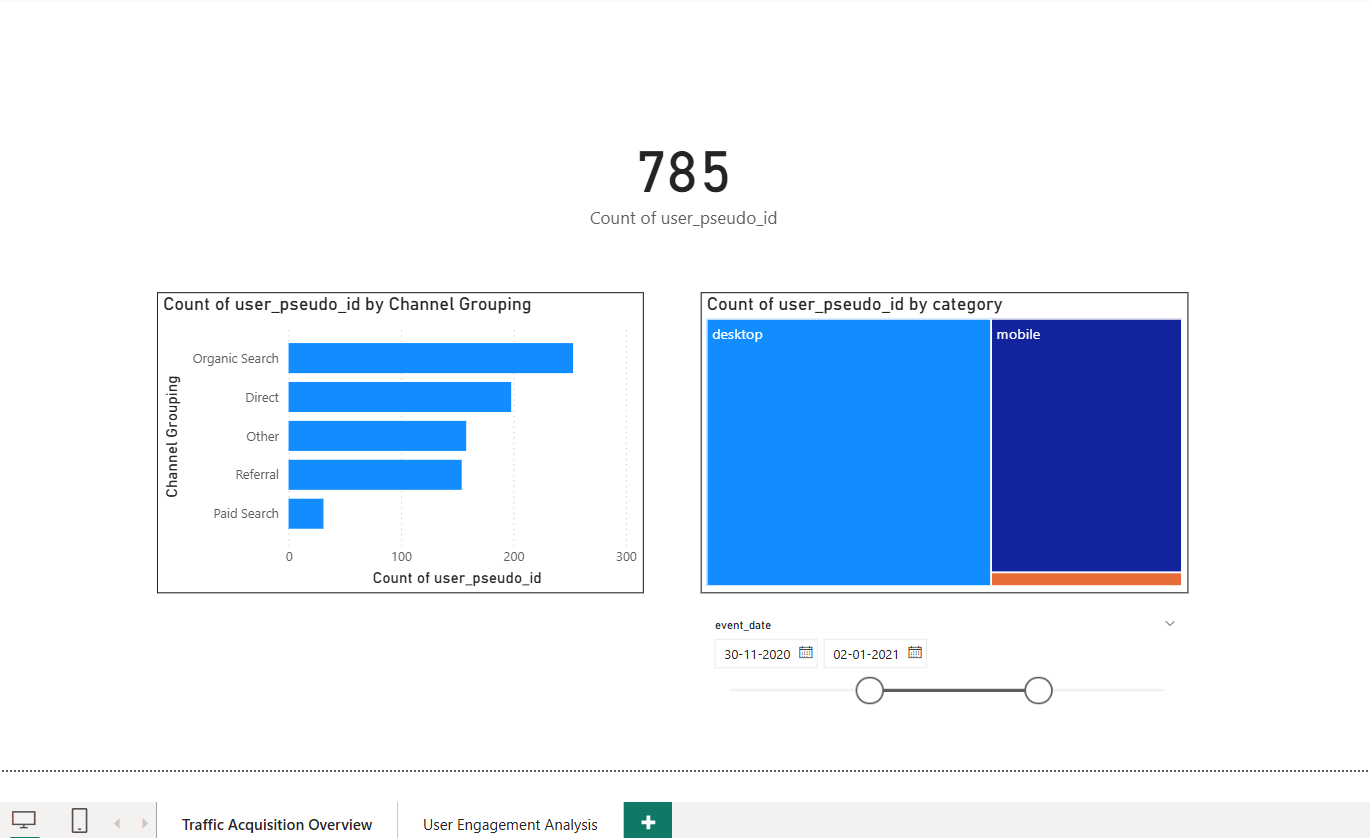

Layout of this report page (visuals, bound fields, positions):
{"tool":"powerbi","page":{"name":"Traffic Acquisition Overview","canvas":[1280,720],"ordinal":0},"visuals":[{"type":"card","fields":{"Values":["Count(dataset.user_pseudo_id)"]},"box":[413.2,28.1,452.5,279.7],"z":0},{"type":"barChart","fields":{"Category":["dataset.Channel Grouping"],"Y":["Count(dataset.user_pseudo_id)"]},"box":[149,275.5,452.5,279.7],"z":1000},{"type":"treemap","fields":{"Group":["dataset.category"],"Values":["Count(dataset.user_pseudo_id)"]},"box":[654.9,275.5,453.9,279.7],"z":2000},{"type":"slicer","fields":{"Values":["dataset.event_date"]},"box":[654.9,573.4,453.9,98.4],"z":3000}]}

Visuals, with their boxes on the page's 1280x720 design canvas (x1, y1, x2, y2). These are canvas units, not pixel positions in the 1370x838 screenshot, which may show the page scaled, cropped or inside an application window:
card - Count(dataset.user_pseudo_id): rect(413, 28, 866, 308)
barChart - dataset.Channel Grouping x Count(dataset.user_pseudo_id): rect(149, 276, 602, 555)
treemap - dataset.category x Count(dataset.user_pseudo_id): rect(655, 276, 1109, 555)
slicer - dataset.event_date: rect(655, 573, 1109, 672)
